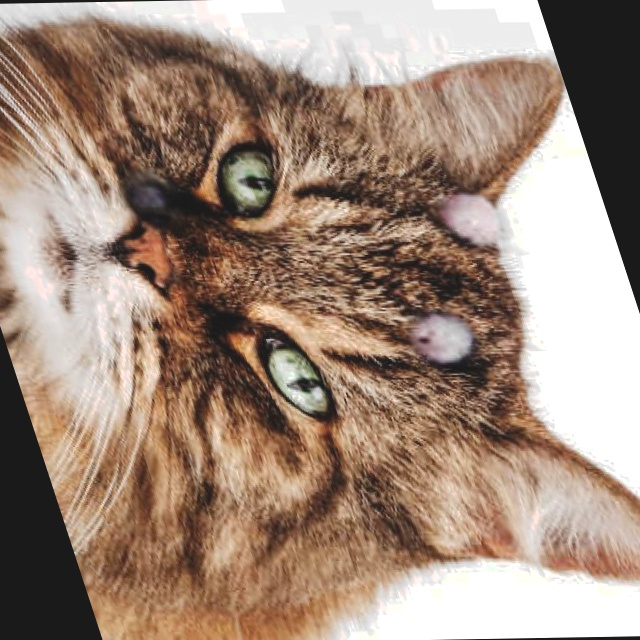lump_and_bump: (425, 194, 514, 247), (399, 318, 481, 360), (125, 185, 177, 224)
